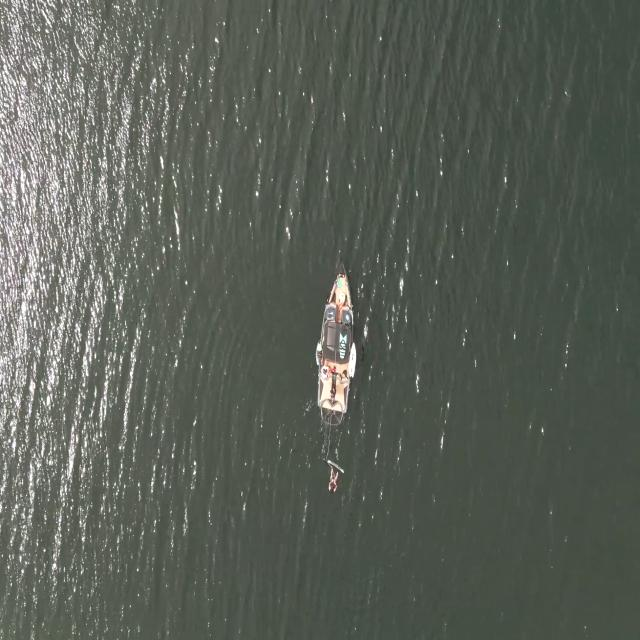ship: (318, 265, 352, 428), (348, 340, 358, 383)
